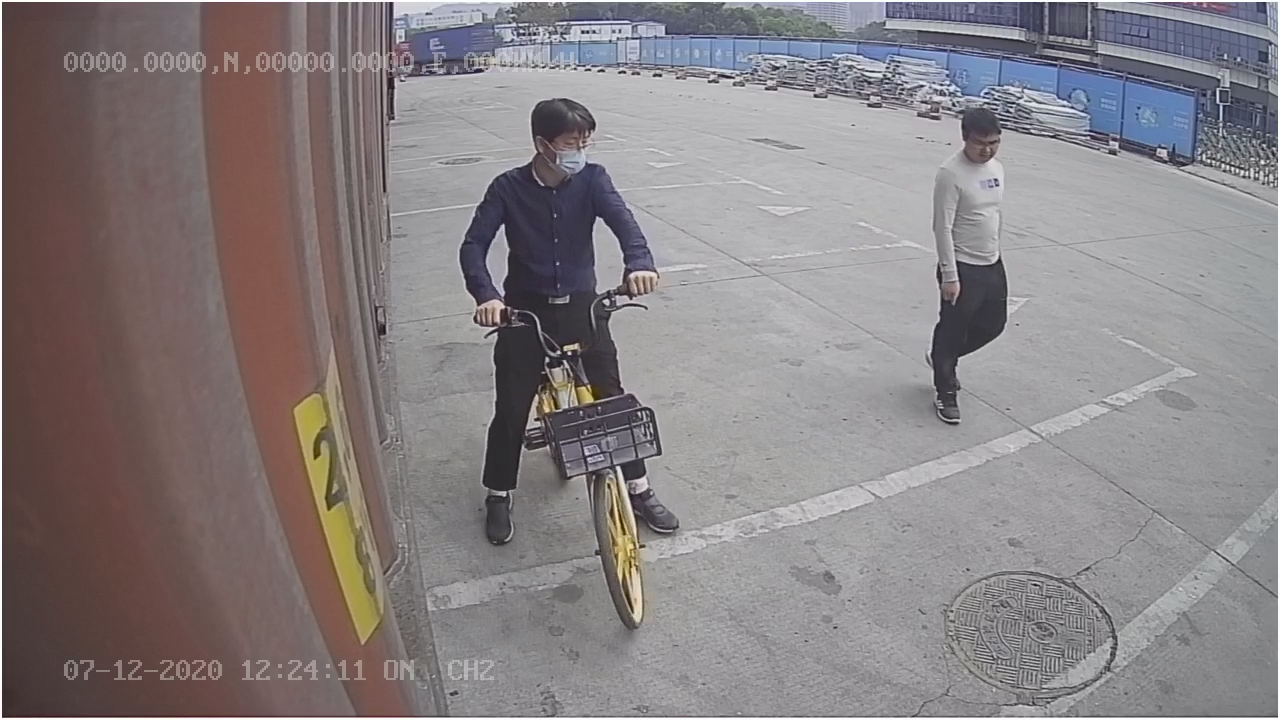person: (918, 101, 1018, 430)
